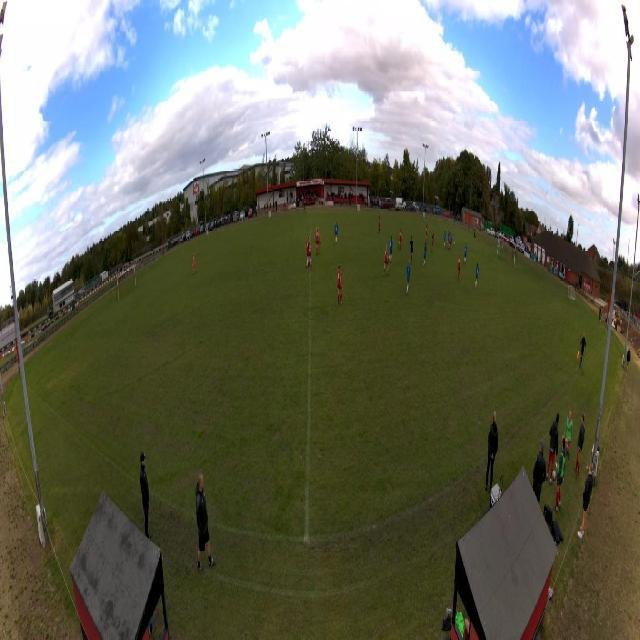ball: (454, 241, 455, 245)
player: (337, 262, 343, 306), (383, 243, 389, 278), (406, 259, 411, 296), (305, 236, 310, 272), (314, 229, 319, 258), (388, 234, 393, 263), (308, 235, 312, 269), (317, 225, 321, 257), (398, 228, 403, 252), (334, 219, 338, 246), (423, 241, 427, 267), (410, 235, 414, 261), (475, 264, 479, 289), (431, 233, 435, 254), (463, 243, 467, 264), (192, 253, 196, 274), (458, 254, 461, 280), (378, 214, 381, 234), (443, 228, 446, 247), (446, 229, 450, 243), (448, 233, 451, 250), (498, 243, 501, 260), (426, 224, 428, 245), (450, 234, 452, 248)
